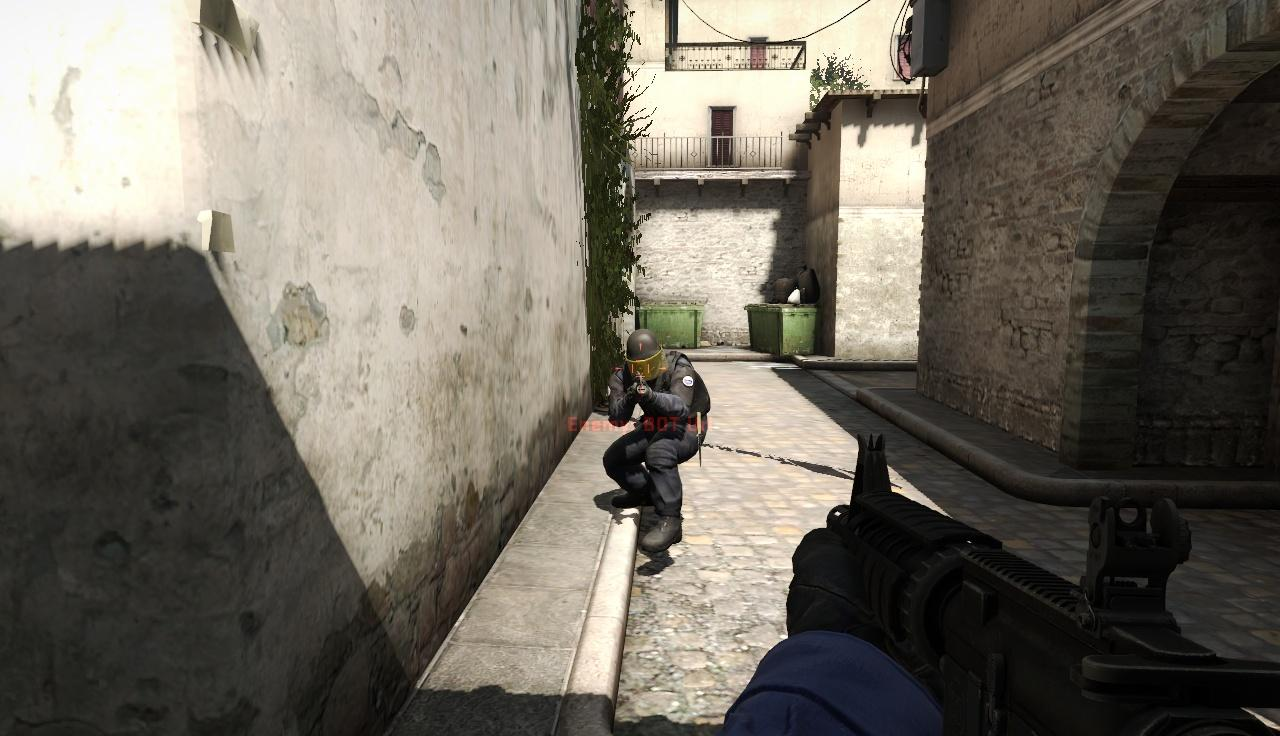ct: (611, 328, 701, 557)
cthead: (624, 328, 662, 376)
rifle: (786, 439, 1280, 736)
